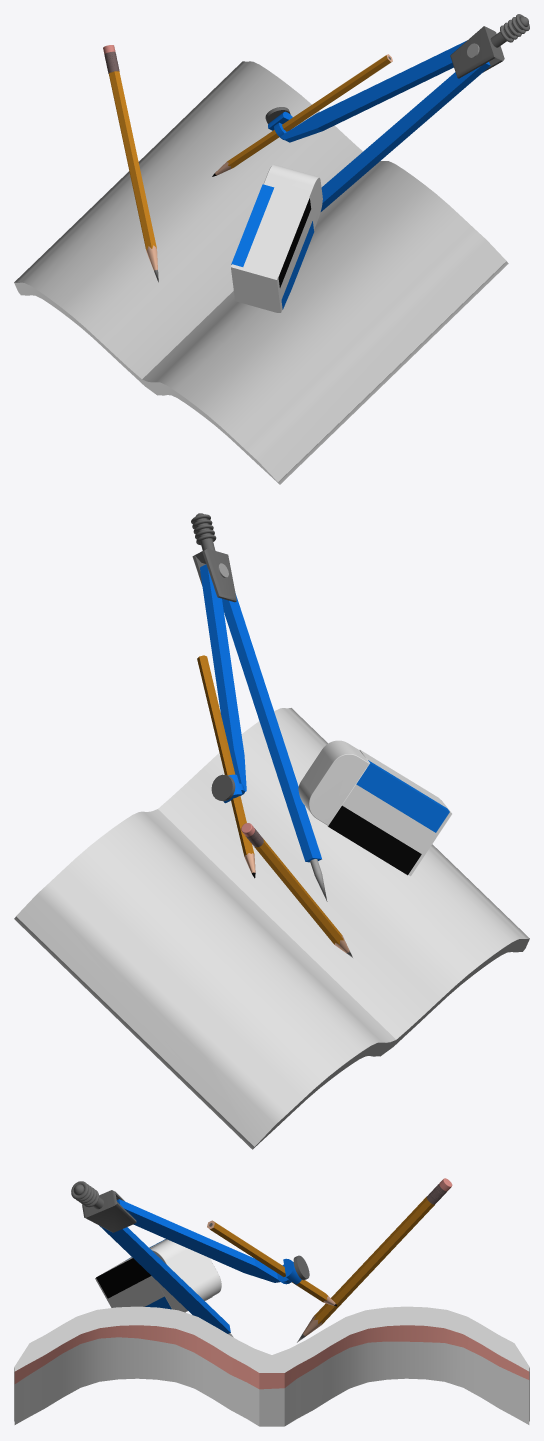
The model's file is AreaSelect_ClassRoom.fbx.
3 views of the same model, one above another, from view 1: azimuth 30°, elevation 25°; view 2: azimuth 150°, elevation 25°; view 3: azimuth 270°, elevation 25° (orthographic). The views are drawn at different scales.
Visible parts, largest first — view 1: Book, Eraser, CompassLeft, CompassRight, Pencil, CompassHead; view 2: Book, Eraser, CompassLeft, CompassRight, Pencil, CompassHead; view 3: Book, Eraser, CompassLeft, CompassRight, Pencil, CompassHead.
Boxes of the visible parts, left/top/right/bottom form: Book: left=14, top=61, right=508, bottom=484; Eraser: left=231, top=164, right=322, bottom=312; CompassLeft: left=212, top=40, right=466, bottom=176; CompassRight: left=320, top=62, right=490, bottom=211; Pencil: left=103, top=45, right=158, bottom=282; CompassHead: left=450, top=14, right=529, bottom=78; Book: left=14, top=708, right=529, bottom=1149; Eraser: left=298, top=740, right=451, bottom=876; CompassLeft: left=197, top=564, right=255, bottom=878; CompassRight: left=222, top=594, right=327, bottom=901; Pencil: left=241, top=823, right=352, bottom=957; CompassHead: left=191, top=513, right=236, bottom=602; Book: left=14, top=1306, right=529, bottom=1426; Eraser: left=95, top=1239, right=221, bottom=1312; CompassLeft: left=116, top=1199, right=336, bottom=1306; CompassRight: left=99, top=1225, right=233, bottom=1337; Pencil: left=297, top=1178, right=452, bottom=1342; CompassHead: left=71, top=1181, right=136, bottom=1232.
Size of the model in its own units: 56.29 by 64.55 by 80.16.
